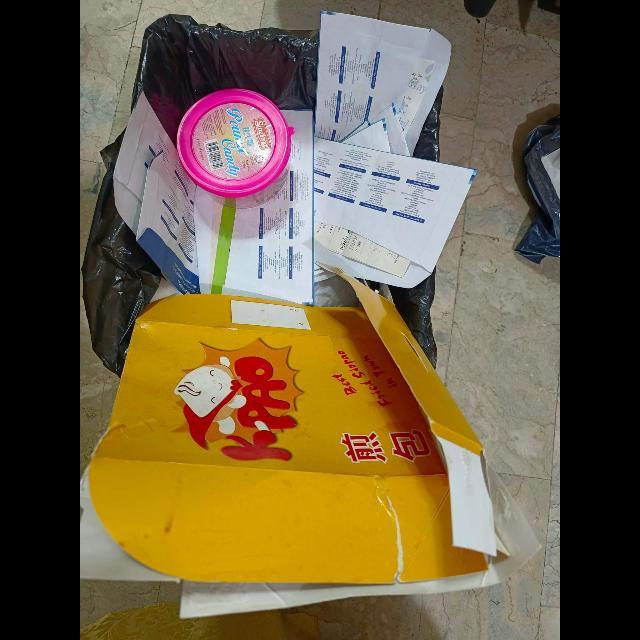paper: (80, 262, 542, 621), (313, 138, 478, 289), (193, 109, 313, 304), (313, 11, 452, 158), (113, 91, 201, 295)
plastic: (176, 89, 295, 209)
